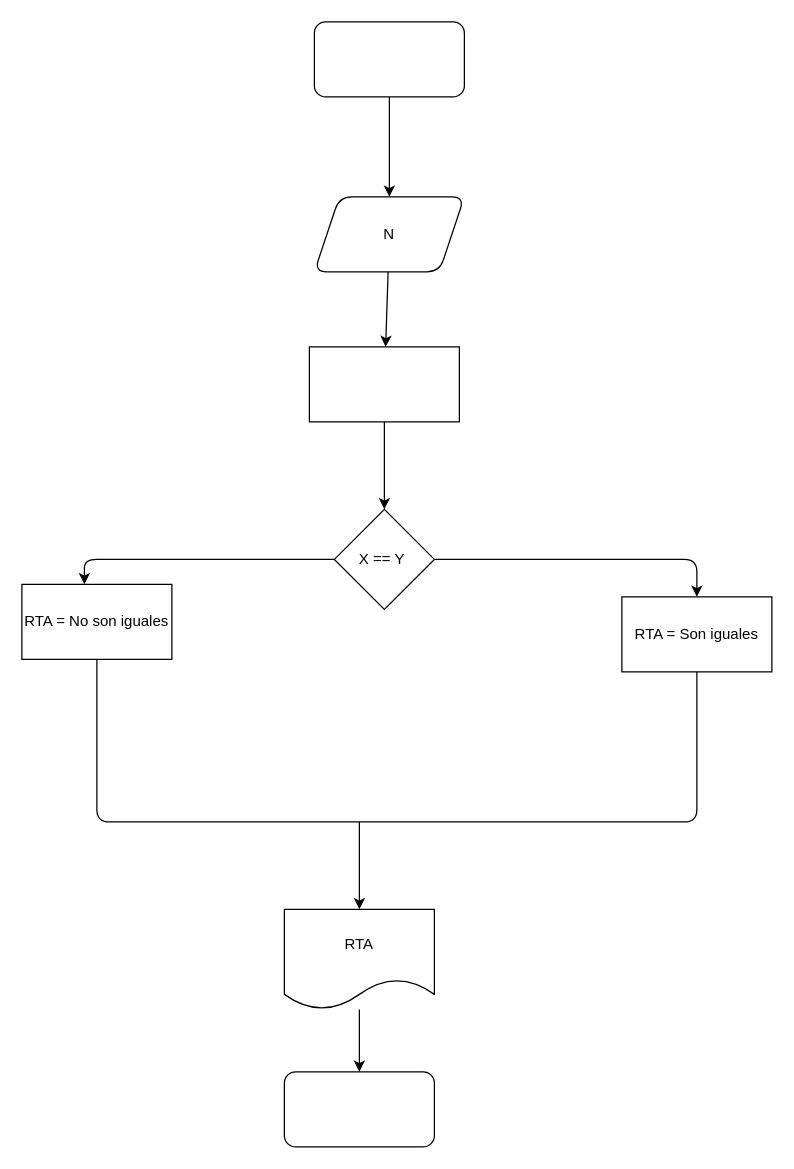
The diagram is 794 pixels wide and 1169 high, and some of its shapes have lost their labels. The centre of each missing label's shape, as x and y in pixels:
FIN: the point at 358,1109
INICIO: the point at 388,59
X = N//10 Y = N%10: the point at 383,384
